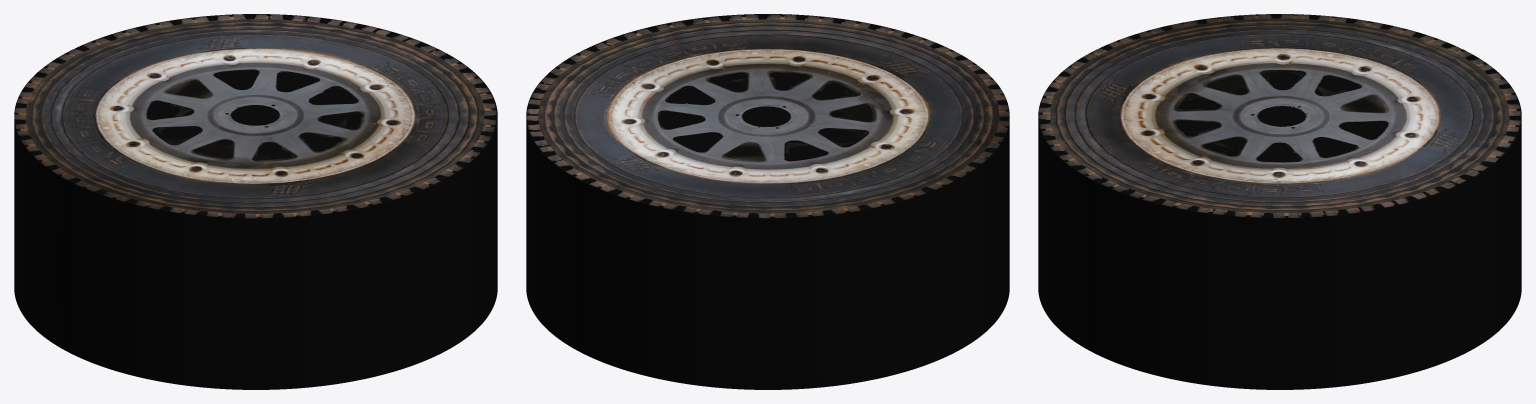
File: autoRallyPlatformFrontWheelTextured.dae
The picture shows the model from 3 angles, left to right: view 1: azimuth 30°, elevation 25°; view 2: azimuth 150°, elevation 25°; view 3: azimuth 270°, elevation 25°; orthographic projection.
Visible parts, largest first — view 1: frontWheelCylinder_HQ; view 2: frontWheelCylinder_HQ; view 3: frontWheelCylinder_HQ.
Part boxes in pixels (x1,y1,x2,y2): frontWheelCylinder_HQ: (14,14,497,389); frontWheelCylinder_HQ: (526,14,1009,389); frontWheelCylinder_HQ: (1038,14,1521,389).
Bounding box in the file's own units: 0.1854 × 0.1854 × 0.0726.
Materials: 1 (1 with a texture image).
